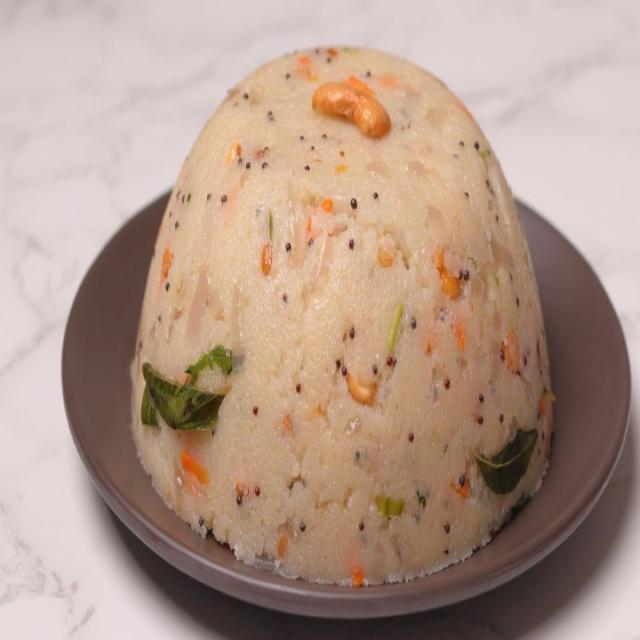upma: (124, 32, 559, 604)
